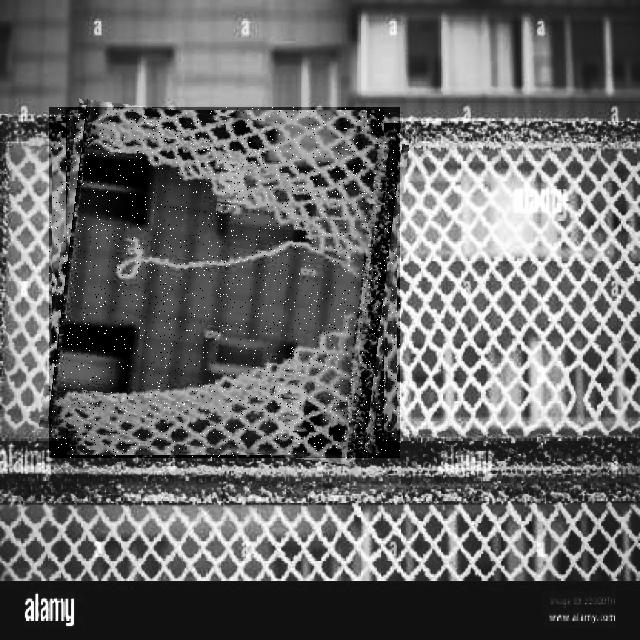anomaly-fence: (49, 107, 400, 458)
